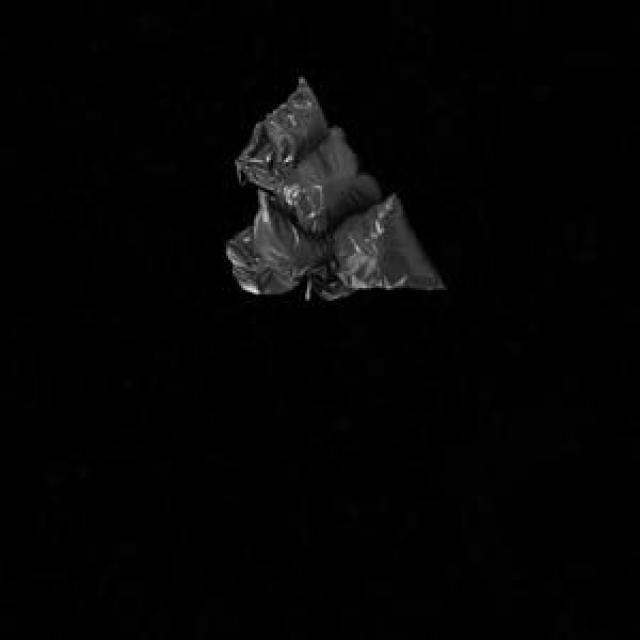miscellaneous trash: (222, 73, 440, 294)
